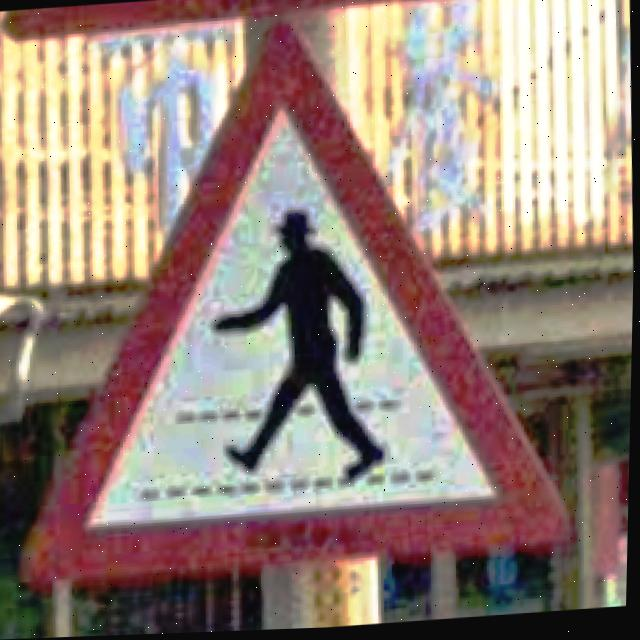pedestriancross: (29, 24, 569, 585)
